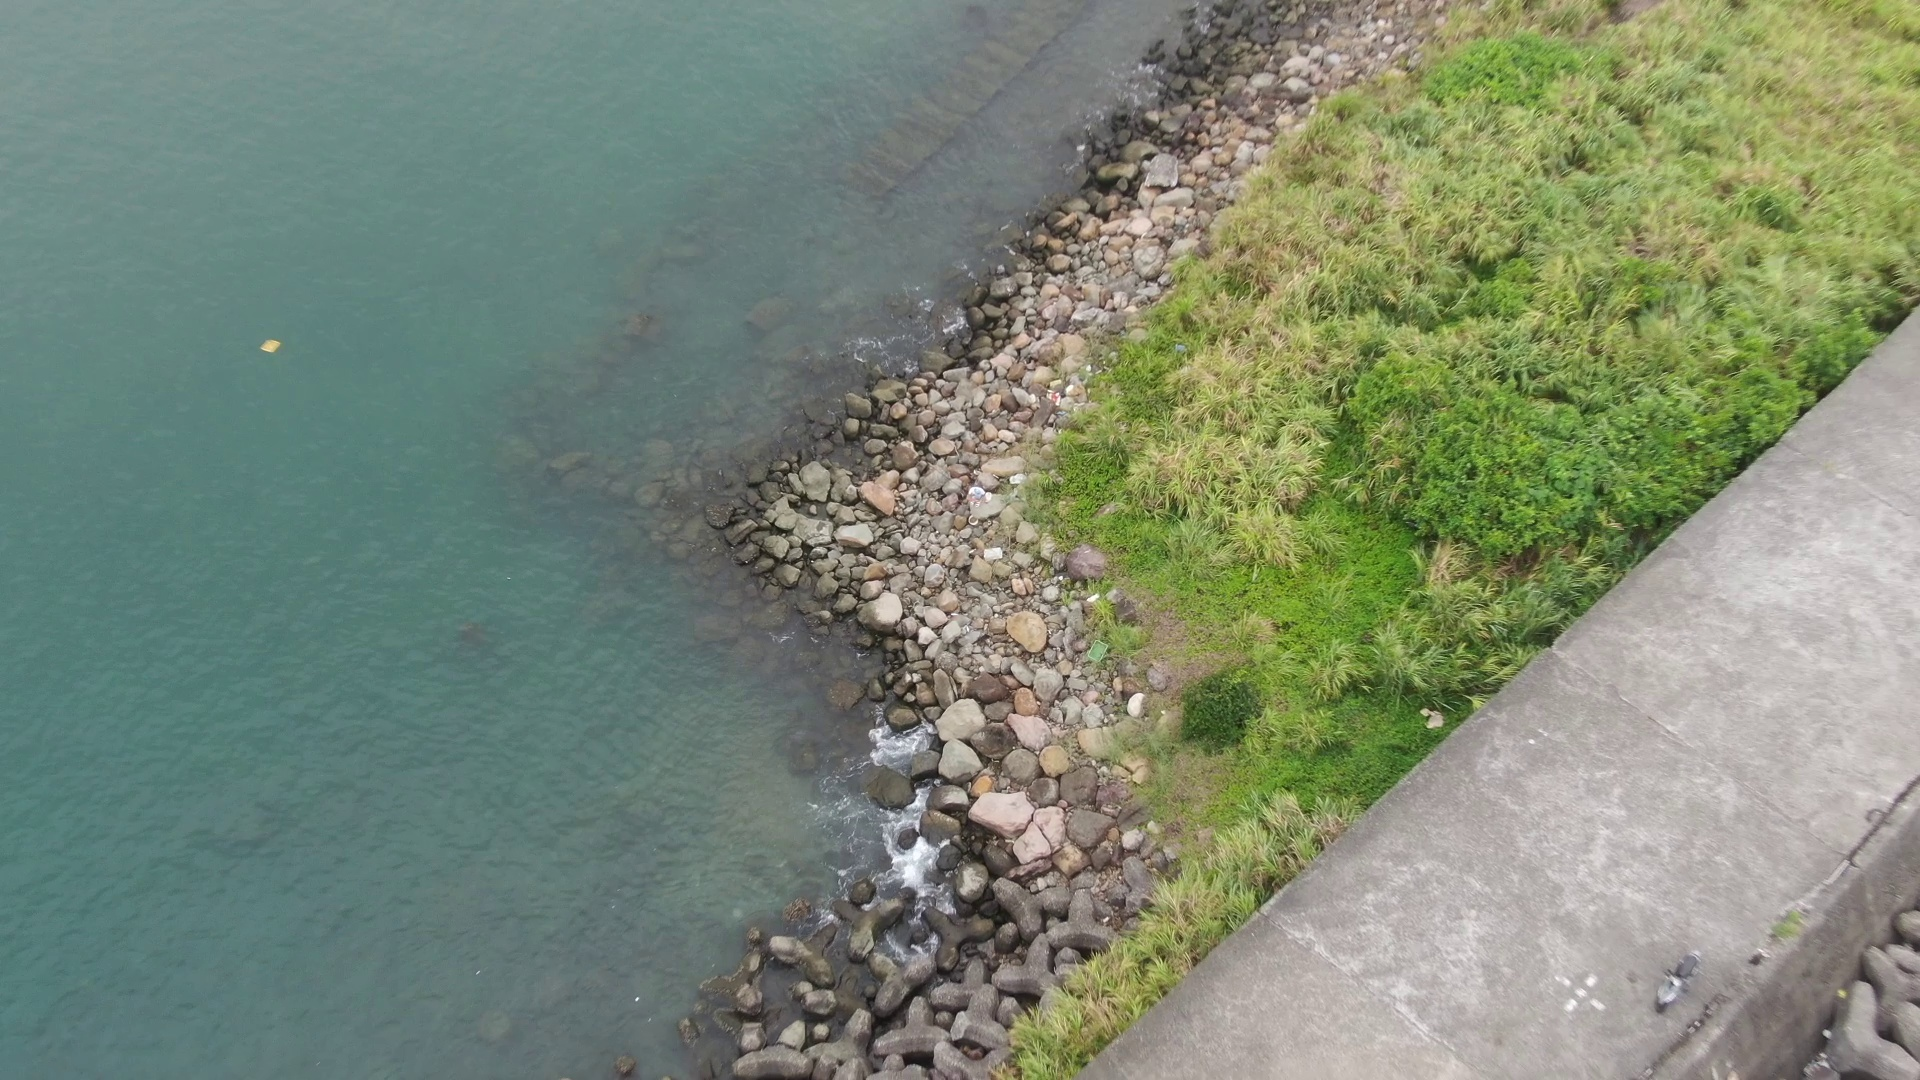garbage: (255, 326, 293, 356), (1084, 638, 1118, 665)
